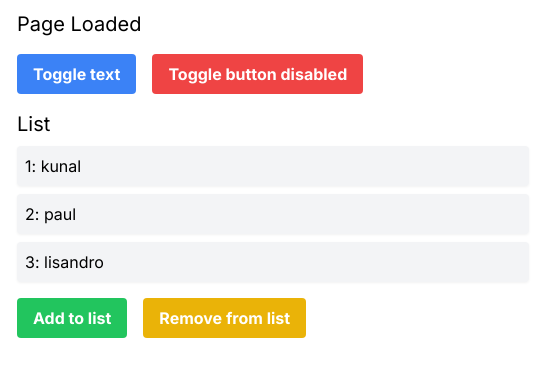
Test case: TestingStateChange component › toggles text visibility on button click
The width and height of the screenshot is (546, 379).
What coordinates should you click on to do the following:
click the button "Toggle text"
I would click on:
 (77, 74)
Its box is [17,54,136,94].
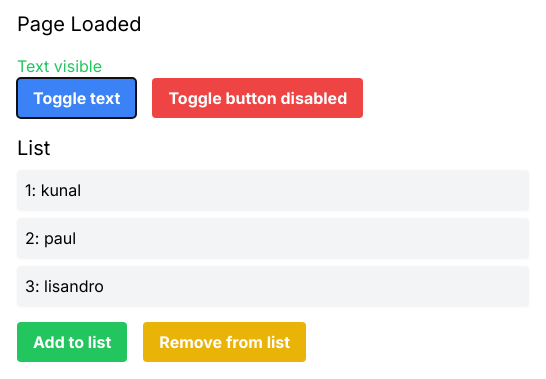
Expected: the text "Text visible" is shown, [17,56,102,76]
